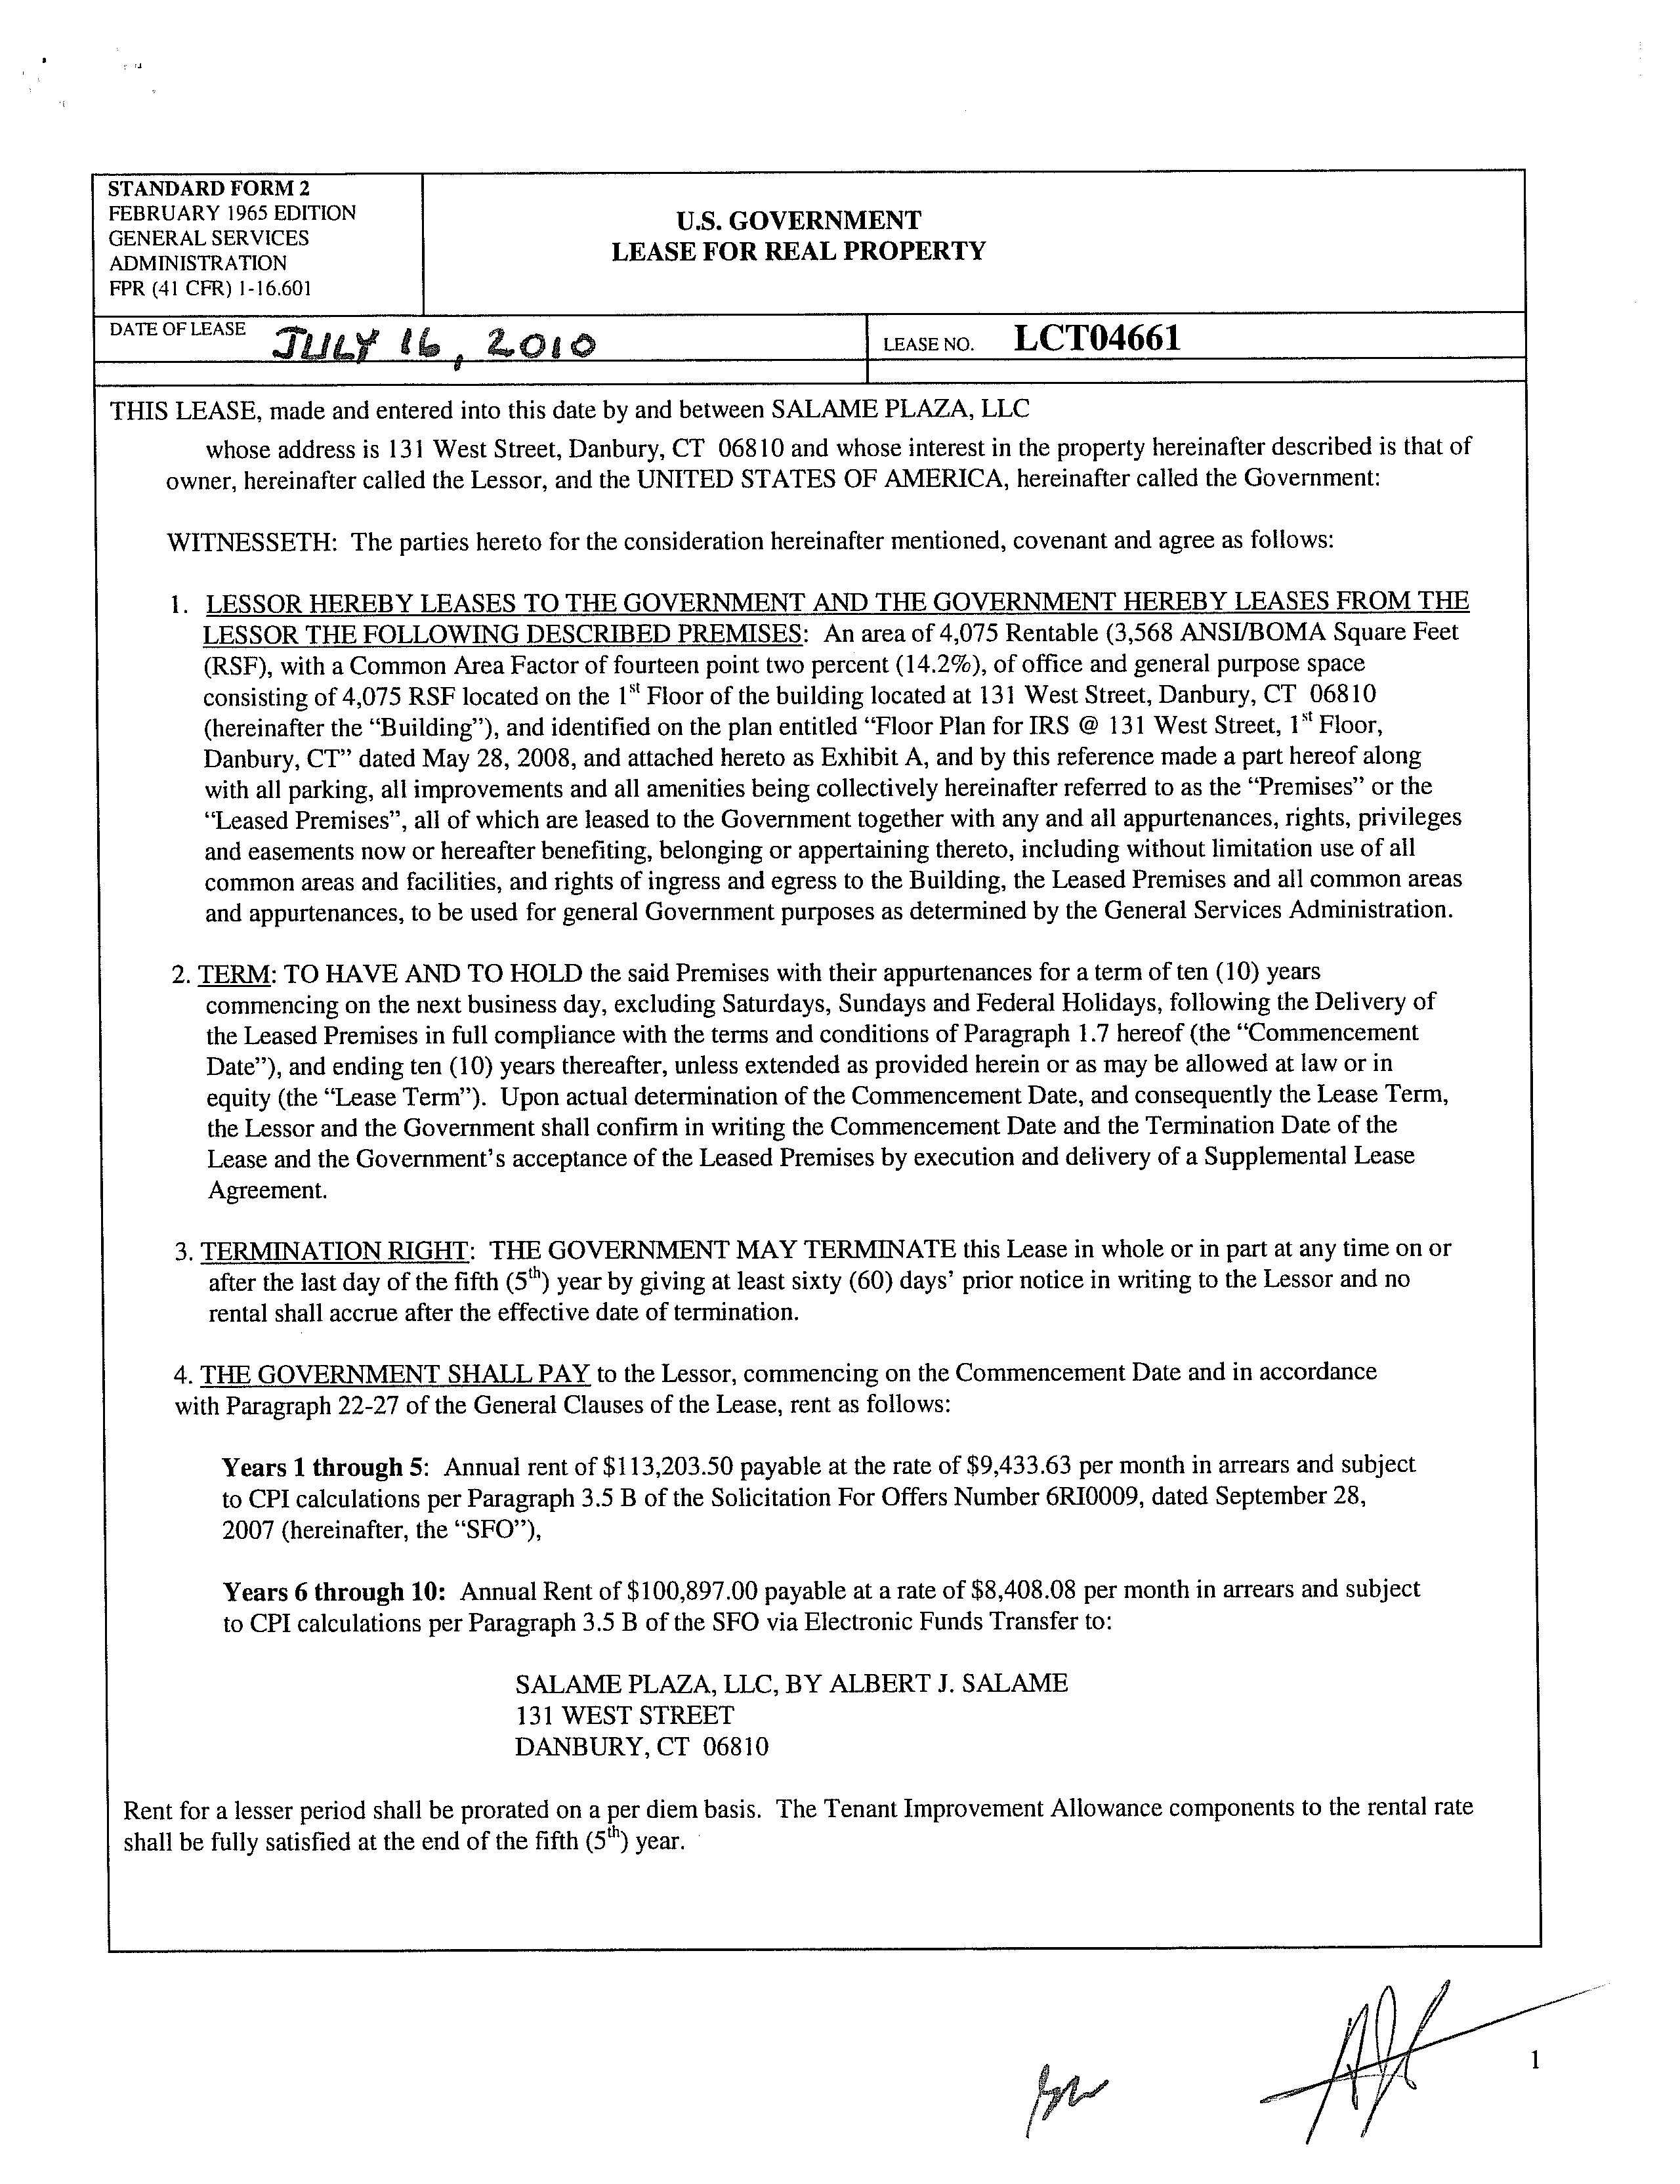handwritten: (1249, 1974, 1599, 2156), (999, 2043, 1179, 2158), (261, 318, 609, 365)
